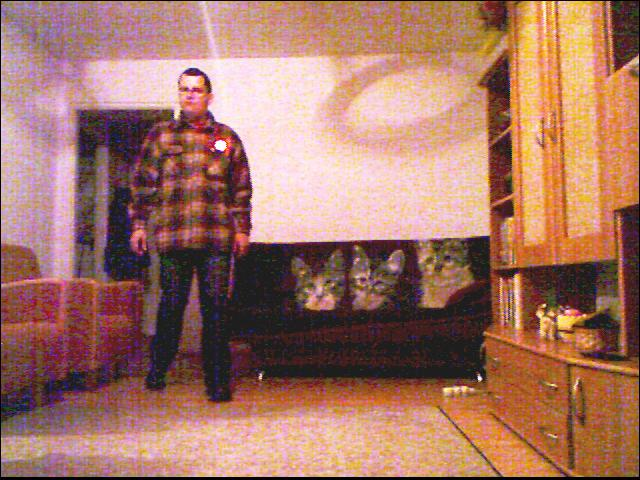walking: (124, 42, 267, 420)
